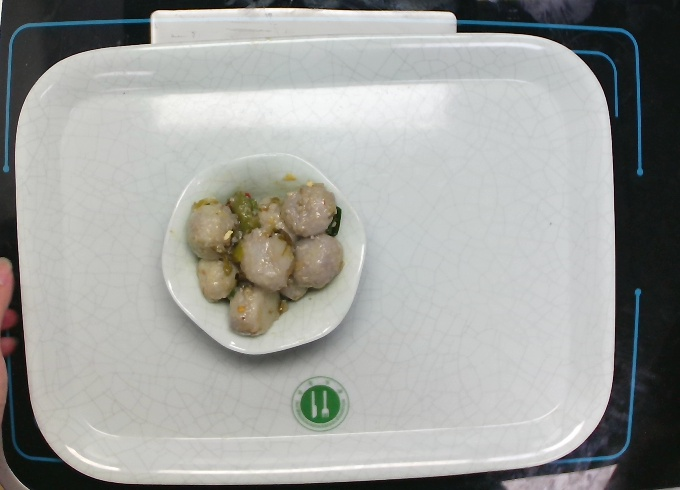WCQzf-Hua_Duo_Wan: (159, 150, 368, 356)
